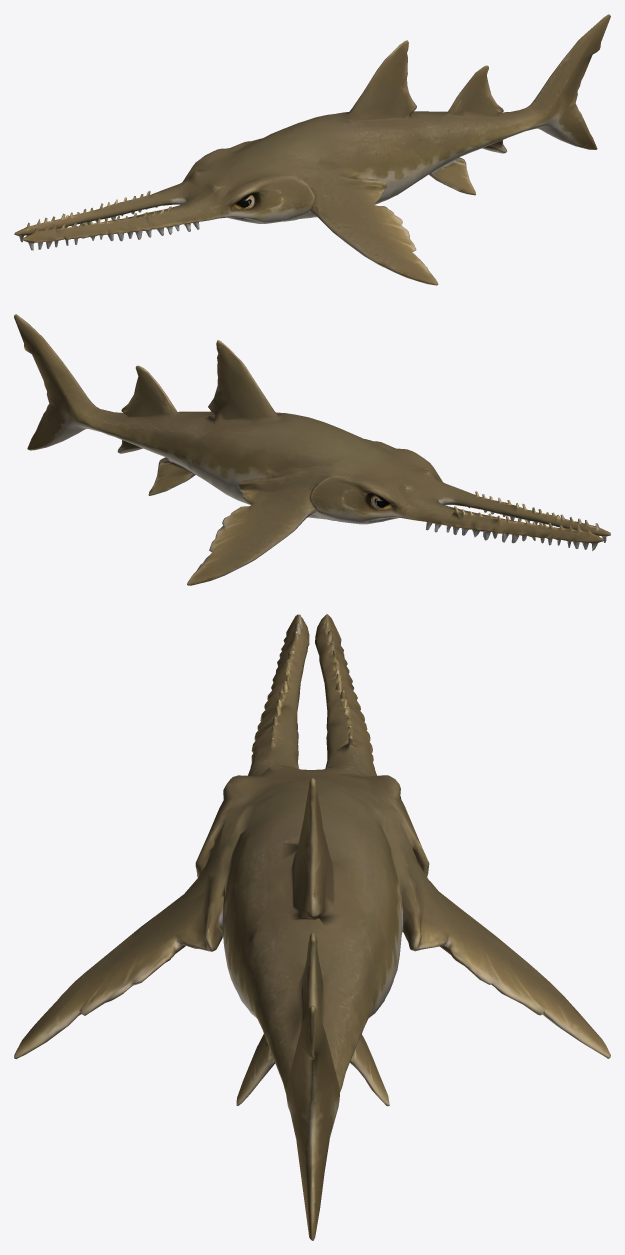
Rendered from fish-pila.glb.
The picture shows the model from 3 angles, top to bottom: view 1: azimuth 30°, elevation 25°; view 2: azimuth 150°, elevation 25°; view 3: azimuth 270°, elevation 25°; orthographic projection. The views are drawn at different scales.
Visible parts, largest first — view 1: tripo_node_bb489e4f-ef4a-49f2-b824-12087c5c8fa5; view 2: tripo_node_bb489e4f-ef4a-49f2-b824-12087c5c8fa5; view 3: tripo_node_bb489e4f-ef4a-49f2-b824-12087c5c8fa5.
Part boxes in pixels (x1=…): tripo_node_bb489e4f-ef4a-49f2-b824-12087c5c8fa5: x1=14, y1=14, x2=610, y2=285; tripo_node_bb489e4f-ef4a-49f2-b824-12087c5c8fa5: x1=14, y1=314, x2=610, y2=585; tripo_node_bb489e4f-ef4a-49f2-b824-12087c5c8fa5: x1=14, y1=614, x2=610, y2=1240.
Size of the model in its own units: 1 by 0.2817 by 0.4692.
Materials: 1 (1 with a texture image).
